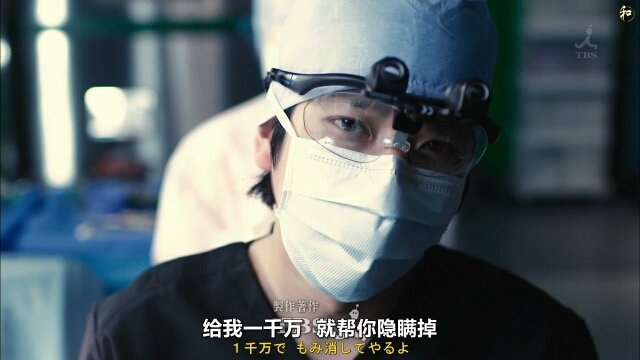mask: (277, 137, 465, 303)
